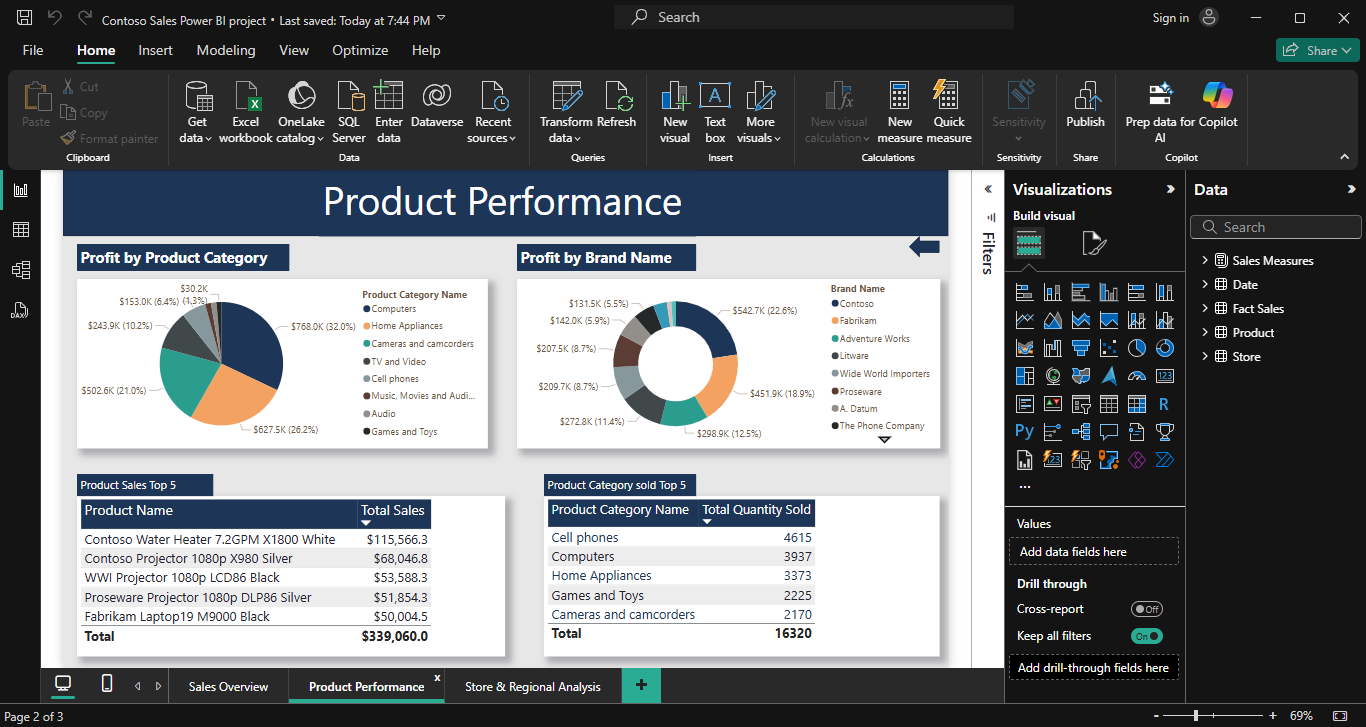

The page's visual inventory and layout, read from the dashboard file:
{"tool":"powerbi","page":{"name":"Product Performance ","canvas":[1280,720],"ordinal":1},"visuals":[{"type":"pieChart","fields":{"Y":["Fact Sales.Total Profit"],"Category":["Product.Product Category Name"]},"box":[20.5,158,593.6,244.9],"z":0},{"type":"donutChart","fields":{"Y":["Fact Sales.Total Profit"],"Category":["Product.Brand Name"]},"box":[656.3,158,611.7,244.9],"z":2000},{"type":"shape","box":[0,0,1279.8,95.5],"z":2250},{"type":"textbox","box":[370.8,0,545.2,95.7],"z":2500},{"type":"textbox","box":[20.8,107.6,306.9,39.1],"z":2501},{"type":"textbox","box":[656.7,107.6,259.2,39.1],"z":2502},{"type":"tableEx","fields":{"Values":["Product.Product Name","Sales Measures.Total Sales"]},"box":[20.8,470.8,618.8,232.3],"z":2503},{"type":"tableEx","fields":{"Values":["Product.Product Category Name","Sales Measures.Total Quantity Sold"]},"box":[695.8,470.8,572.3,232.3],"z":2504},{"type":"textbox","box":[20.8,439,196.9,31.8],"z":2505},{"type":"textbox","box":[695.8,439,220.1,31.8],"z":2506},{"type":"shape","box":[1223.3,95.3,44.6,31.4],"z":2507}]}

Visuals, with their boxes on the page's 1280x720 design canvas (x1, y1, x2, y2). These are canvas units, not pixel positions in the 1366x727 screenshot, which may show the page scaled, cropped or inside an application window:
pieChart - Fact Sales.Total Profit x Product.Product Category Name: x1=20, y1=158, x2=614, y2=403
donutChart - Fact Sales.Total Profit x Product.Brand Name: x1=656, y1=158, x2=1268, y2=403
shape: x1=0, y1=0, x2=1280, y2=96
textbox: x1=371, y1=0, x2=916, y2=96
textbox: x1=21, y1=108, x2=328, y2=147
textbox: x1=657, y1=108, x2=916, y2=147
tableEx - Product.Product Name x Sales Measures.Total Sales: x1=21, y1=471, x2=640, y2=703
tableEx - Product.Product Category Name x Sales Measures.Total Quantity Sold: x1=696, y1=471, x2=1268, y2=703
textbox: x1=21, y1=439, x2=218, y2=471
textbox: x1=696, y1=439, x2=916, y2=471
shape: x1=1223, y1=95, x2=1268, y2=127
